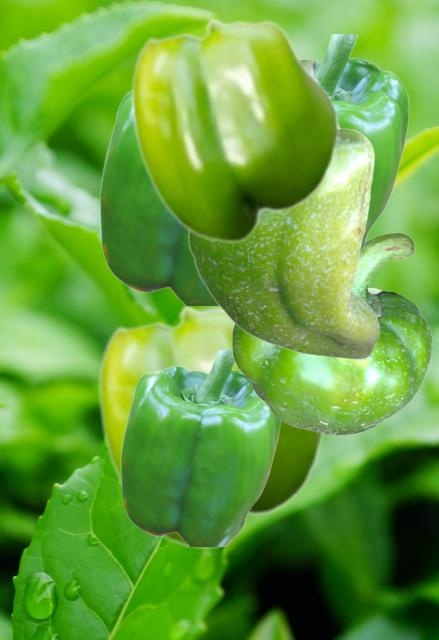bell_pepper: (187, 60, 379, 358), (98, 304, 324, 549), (131, 17, 339, 243), (232, 232, 431, 434), (120, 350, 280, 545), (99, 90, 216, 304), (302, 34, 408, 252)
